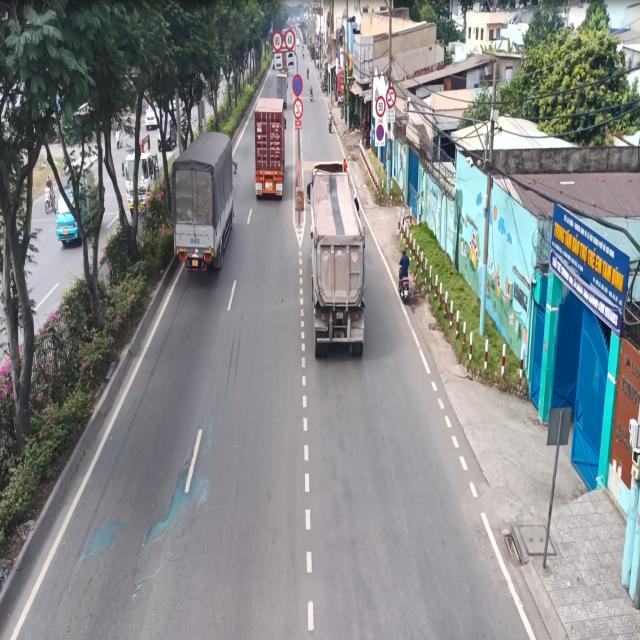motor: (393, 237, 414, 307)
truck: (300, 160, 369, 362), (170, 124, 241, 278), (253, 90, 290, 208)
